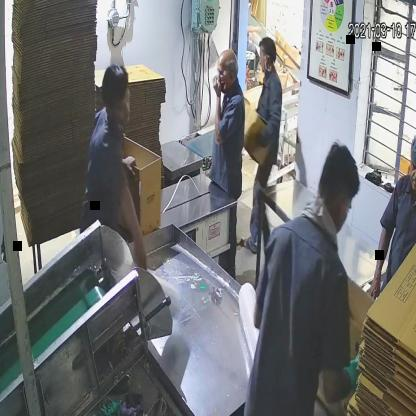no_glove: (109, 155, 147, 277), (368, 220, 394, 306), (211, 71, 230, 152)
